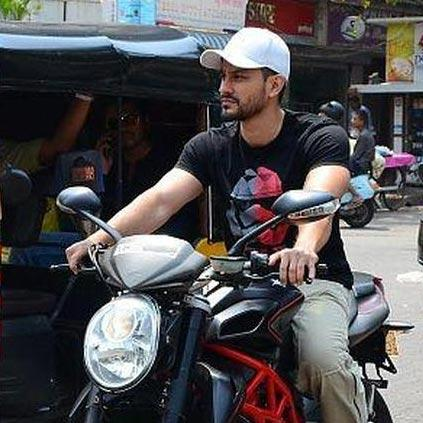nohelmet: (195, 17, 300, 125)
